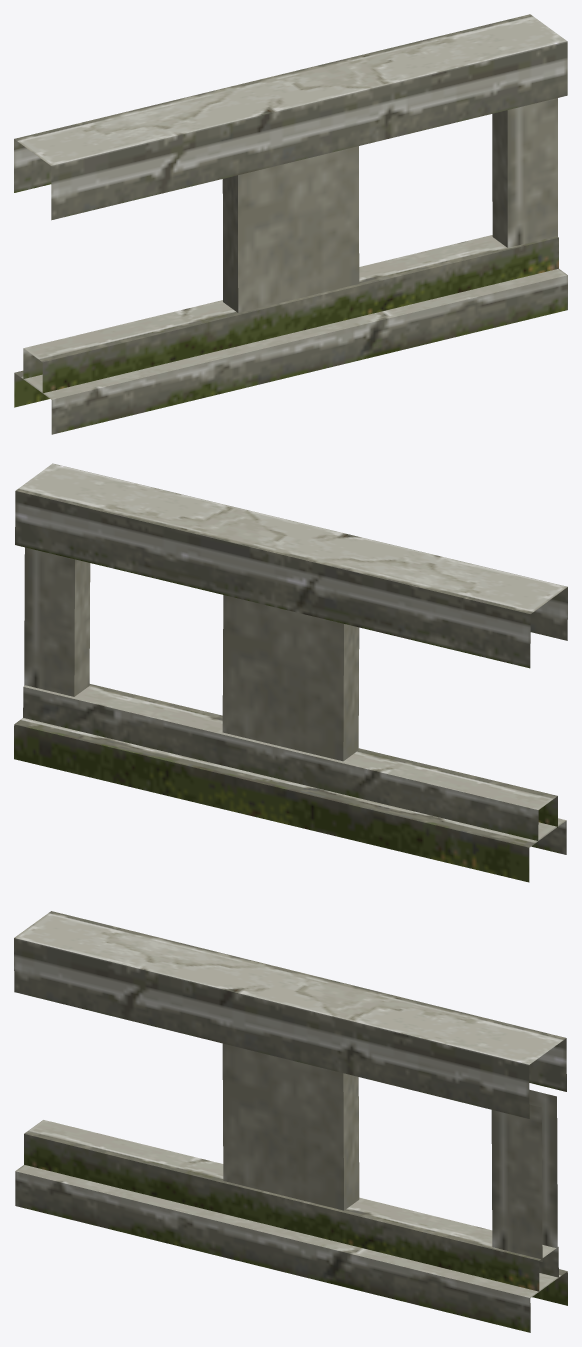
Rendered from ss_langang_1.FBX.
3 views of the same model, one above another, from view 1: azimuth 30°, elevation 25°; view 2: azimuth 150°, elevation 25°; view 3: azimuth 330°, elevation 25° (orthographic).
Parts seen in each view (by area): view 1: ss_langang_1; view 2: ss_langang_1; view 3: ss_langang_1.
Part boxes in pixels (x1,y1,x2,y2): ss_langang_1: (14, 14, 567, 434); ss_langang_1: (14, 463, 567, 882); ss_langang_1: (14, 911, 567, 1332).
Bounding box in the file's own units: 2006 × 1003 × 257.
